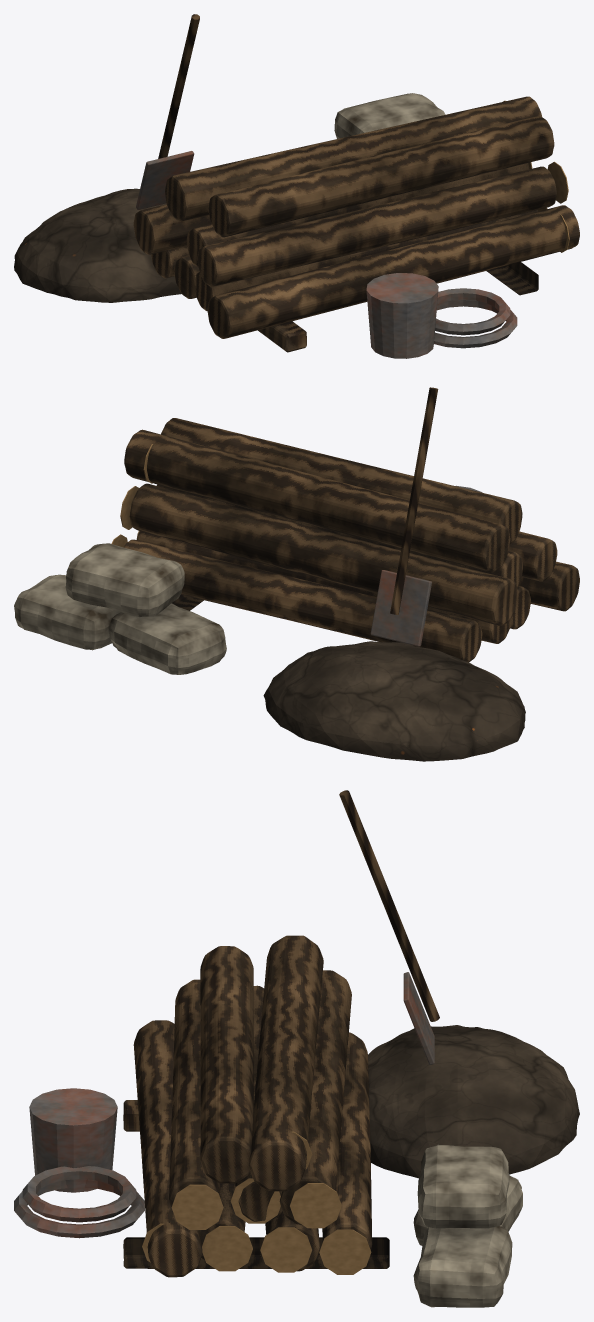
The model's file is poi_construction.glb.
3 renders of one model, top to bottom at view 1: azimuth 30°, elevation 25°; view 2: azimuth 150°, elevation 25°; view 3: azimuth 270°, elevation 25°, orthographic. The views are drawn at different scales.
Parts seen in each view (by area): view 1: poi_construction; view 2: poi_construction; view 3: poi_construction.
Boxes of the visible parts, left/top/right/bottom form: poi_construction: left=14, top=14, right=579, bottom=358; poi_construction: left=14, top=387, right=579, bottom=761; poi_construction: left=14, top=790, right=579, bottom=1307.
Bounding box in the file's own units: 2.2 × 1.23 × 1.92.
Materials: 6 (6 with a texture image).
